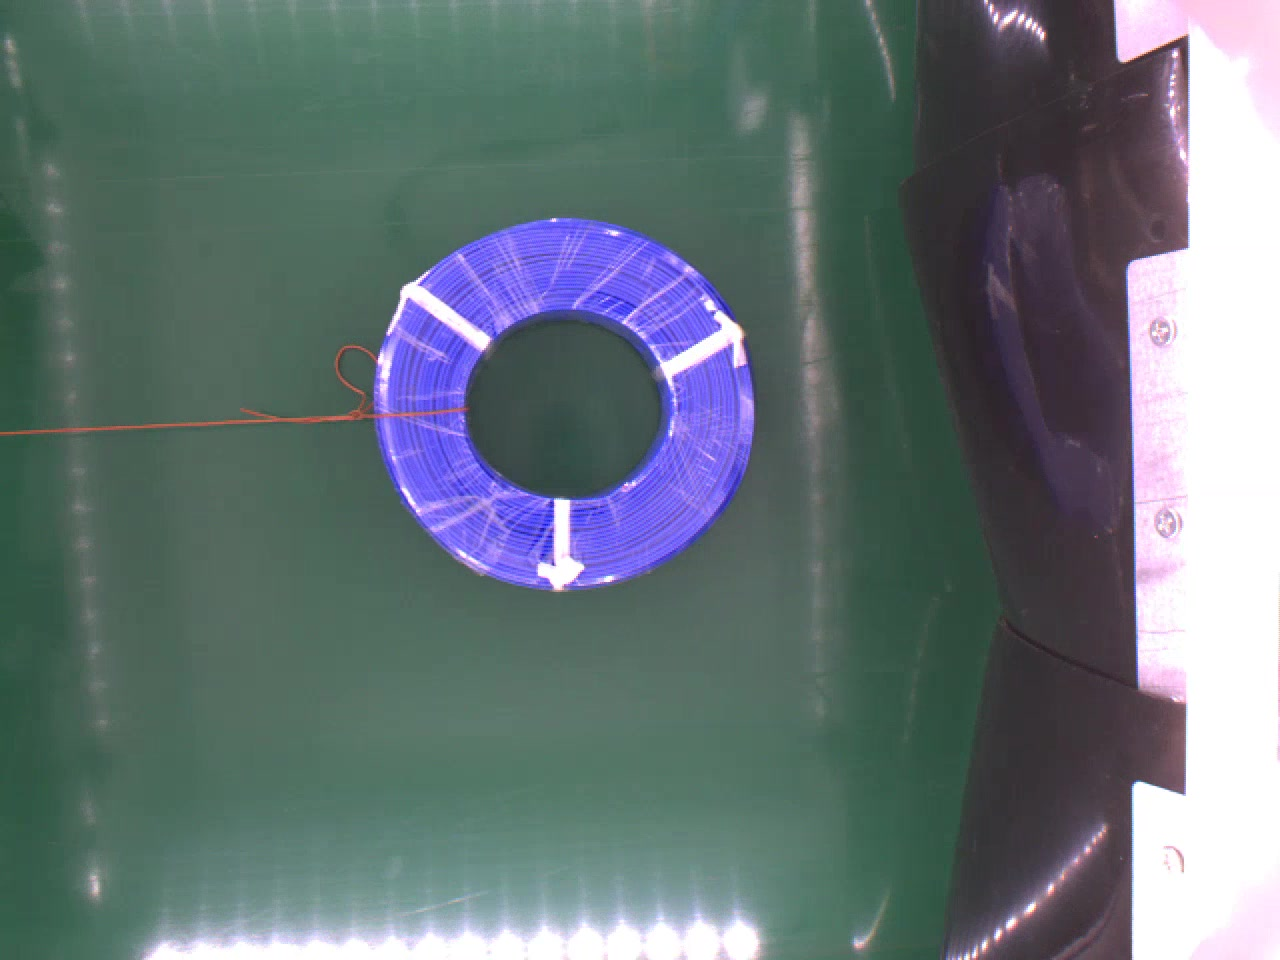blue: (369, 213, 760, 592)
